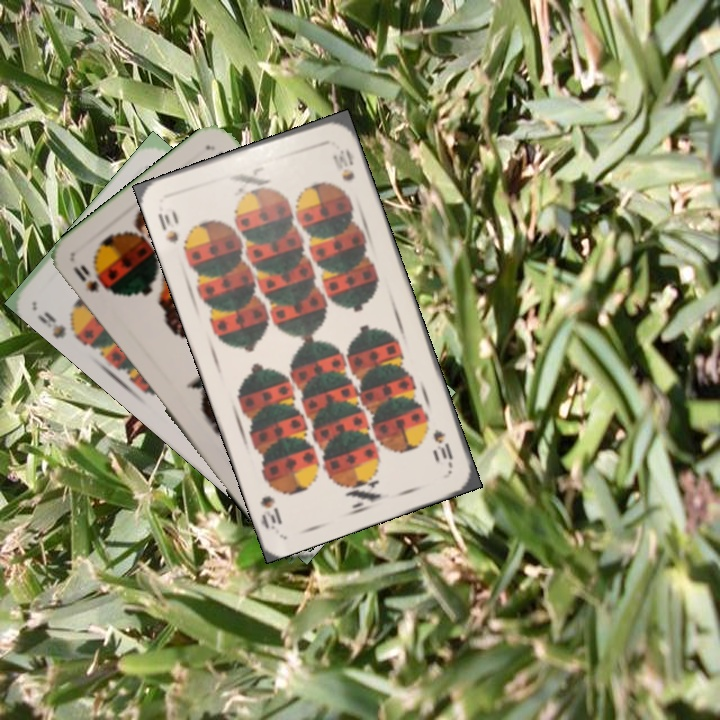S10: (153, 204, 182, 247), (429, 425, 456, 470)
S9: (33, 307, 85, 343)
SO: (69, 260, 111, 295)
